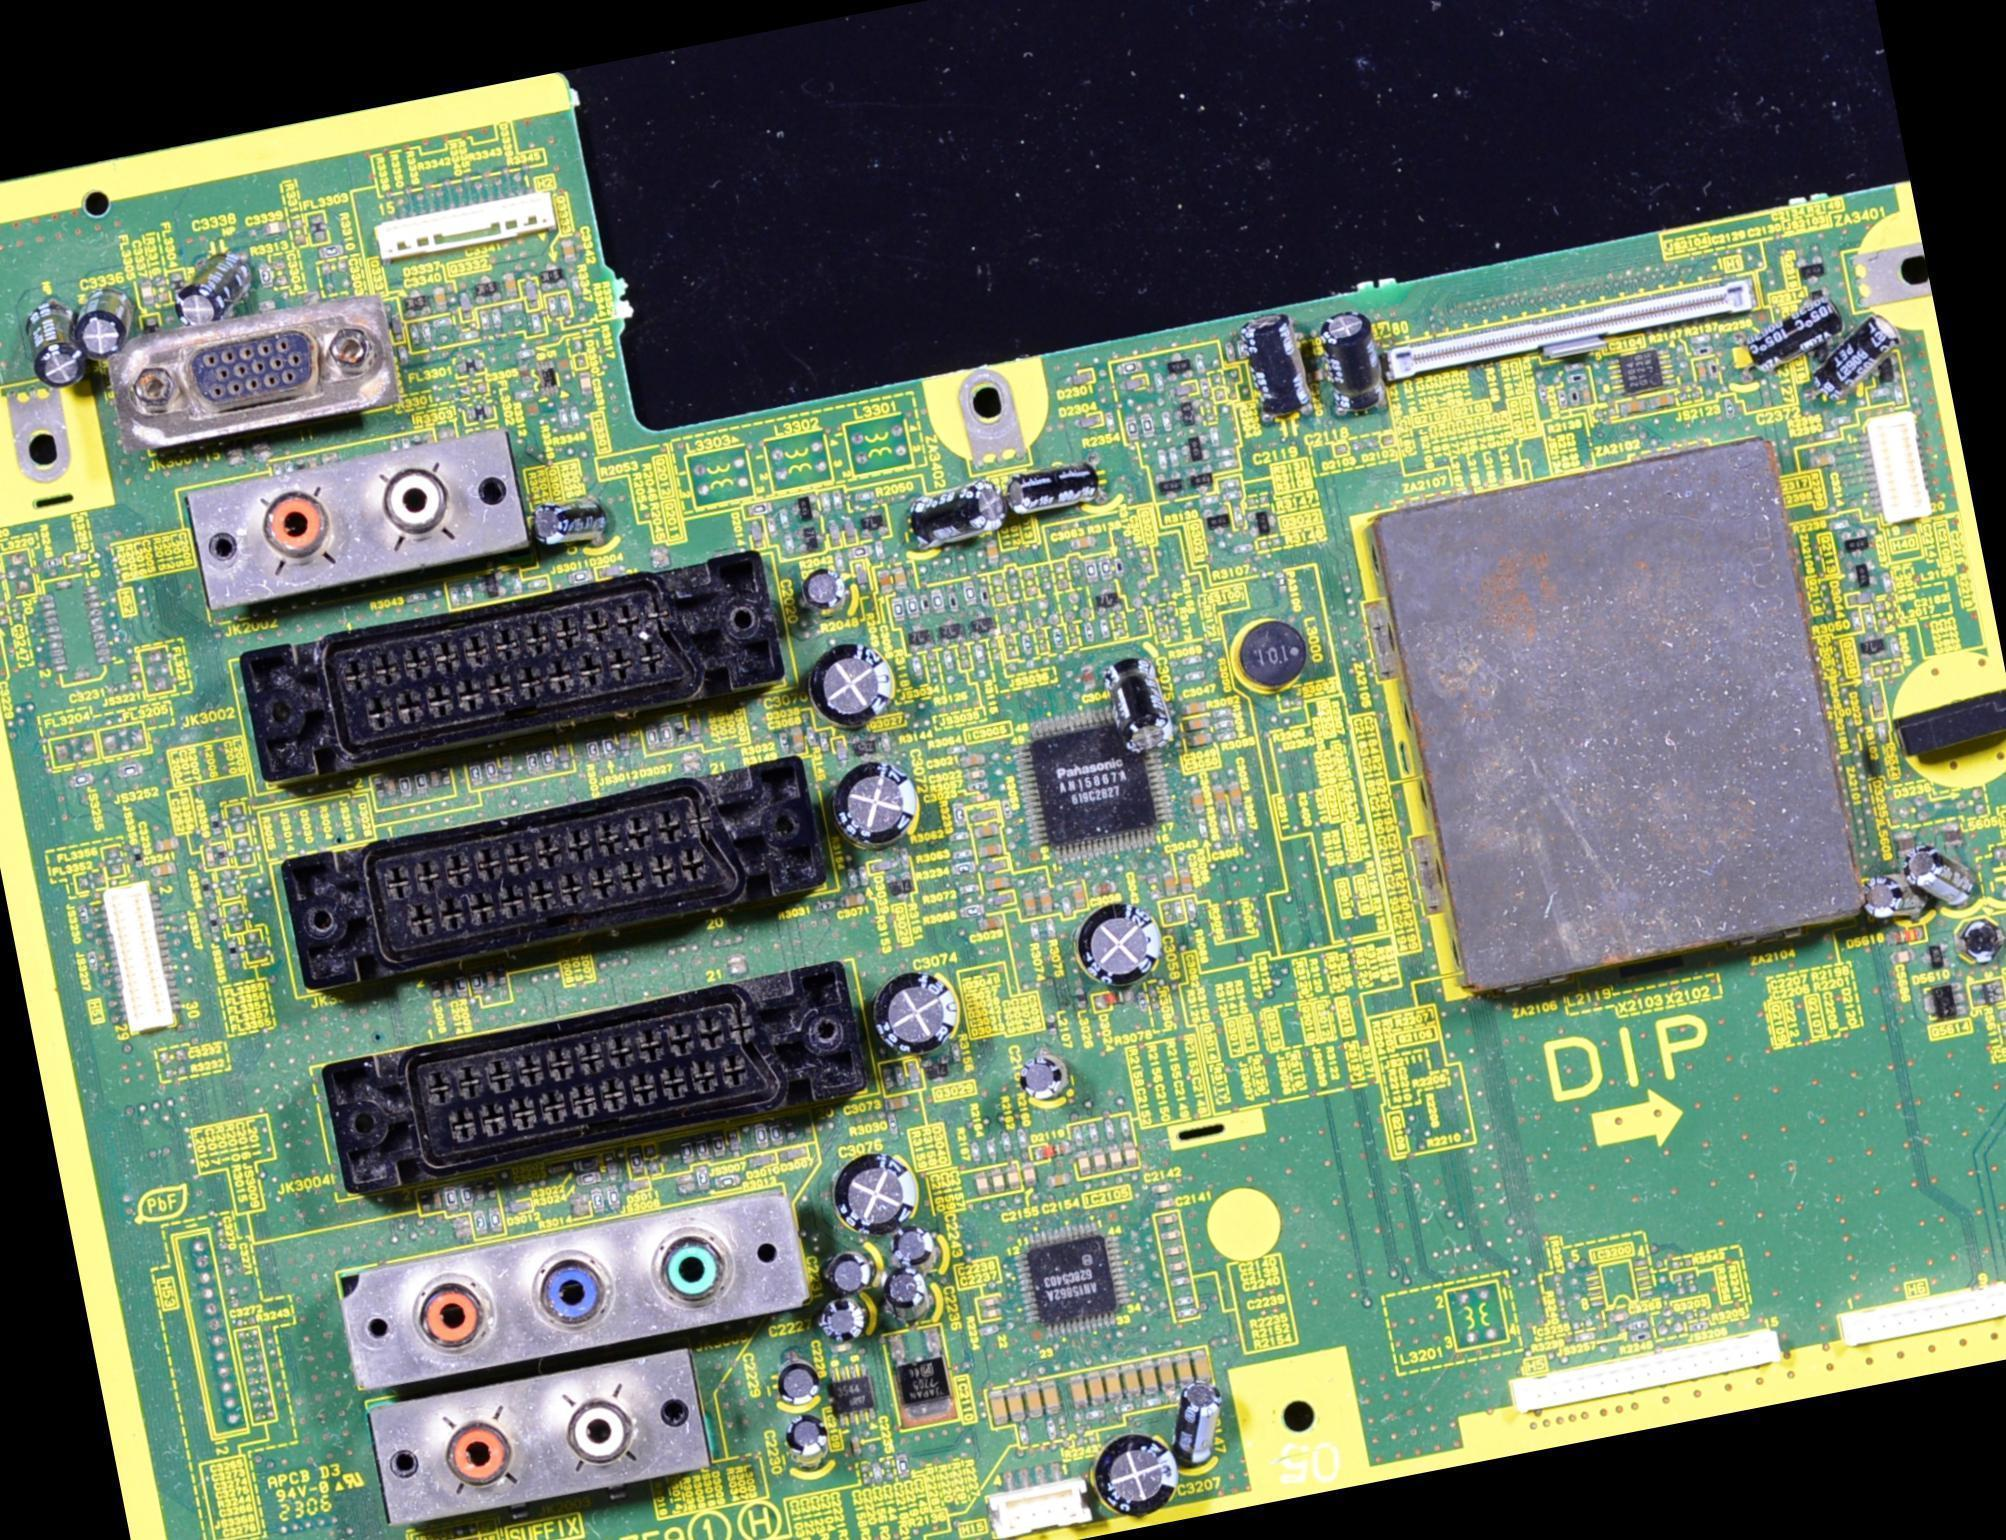Capacitor: (1082, 1418, 1188, 1527), (873, 973, 974, 1082), (820, 1144, 924, 1236), (1320, 311, 1407, 420), (837, 754, 919, 866), (1734, 285, 1839, 369), (1233, 321, 1318, 424), (1807, 314, 1903, 404), (898, 475, 1010, 552), (1100, 646, 1179, 753), (1006, 449, 1111, 528), (522, 486, 621, 557), (824, 654, 905, 734), (19, 299, 93, 386), (1166, 1378, 1233, 1473), (1901, 837, 1984, 911), (1860, 861, 1931, 927), (177, 256, 242, 327), (72, 285, 124, 351), (877, 1259, 935, 1318), (1020, 1050, 1077, 1104), (768, 1354, 822, 1410), (819, 1291, 870, 1346), (776, 1410, 833, 1457), (822, 1248, 873, 1298), (886, 1224, 932, 1263), (901, 1344, 929, 1381), (1135, 1362, 1164, 1395), (1190, 1349, 1215, 1387), (1041, 1377, 1064, 1415), (1068, 1374, 1091, 1412), (1184, 787, 1213, 817), (1154, 1357, 1178, 1392), (973, 911, 1009, 934), (1005, 1387, 1028, 1423), (1615, 395, 1651, 418), (1023, 1386, 1046, 1420), (1120, 1367, 1145, 1397), (1180, 696, 1211, 720), (1223, 775, 1243, 812), (1182, 714, 1217, 735), (1173, 1354, 1196, 1385), (972, 1169, 994, 1201), (1209, 781, 1230, 814), (1068, 881, 1090, 912), (1018, 1160, 1039, 1192), (980, 539, 1001, 570), (1690, 357, 1712, 386), (886, 1093, 917, 1113), (1071, 531, 1100, 552), (1889, 946, 1917, 967), (975, 821, 1003, 842), (990, 1393, 1008, 1425), (874, 564, 894, 592), (1019, 889, 1039, 917), (983, 873, 1014, 891), (1075, 1152, 1094, 1181), (989, 1167, 1008, 1195), (1173, 870, 1195, 894), (1088, 1376, 1110, 1400), (1105, 1369, 1123, 1397), (1037, 887, 1055, 915), (1190, 729, 1216, 748), (1159, 869, 1176, 897), (891, 563, 908, 591), (1650, 392, 1676, 410), (1092, 1147, 1109, 1174), (978, 842, 1005, 859), (1004, 1164, 1020, 1191), (1121, 1143, 1139, 1165), (1107, 1147, 1123, 1170)
Connector: (88, 869, 186, 1032), (976, 1475, 1096, 1539)
IC: (1006, 701, 1175, 870), (1007, 1221, 1133, 1342), (887, 1331, 952, 1415), (1601, 341, 1681, 401), (822, 1360, 880, 1430), (1965, 975, 2005, 1013)
Resistor: (983, 1136, 1003, 1168), (440, 1183, 460, 1214), (1121, 414, 1142, 441), (894, 1451, 914, 1478), (1139, 410, 1157, 440), (1115, 358, 1144, 376), (576, 1168, 603, 1187), (998, 1129, 1017, 1156), (460, 1182, 477, 1212), (588, 1188, 607, 1213), (968, 1139, 985, 1166), (471, 1210, 489, 1235), (455, 975, 473, 999), (485, 1205, 501, 1231), (604, 1184, 619, 1211), (630, 1150, 645, 1174), (1013, 1126, 1028, 1149), (871, 1461, 887, 1482), (470, 973, 483, 995), (1103, 412, 1117, 432), (1994, 1005, 2005, 1025)
Transistor: (1920, 977, 1970, 1027), (1850, 625, 1902, 672), (930, 608, 971, 651), (1837, 523, 1879, 563), (1152, 466, 1190, 506), (788, 483, 823, 525), (1844, 556, 1880, 596), (1180, 429, 1217, 467), (1244, 507, 1282, 544), (789, 520, 829, 555), (917, 1052, 955, 1088), (1202, 501, 1238, 539), (855, 507, 891, 544), (882, 867, 918, 904), (963, 609, 999, 645), (900, 621, 939, 654), (1919, 939, 1954, 974), (1165, 349, 1202, 382), (1186, 464, 1219, 498), (1168, 395, 1216, 417), (1095, 583, 1124, 617)
